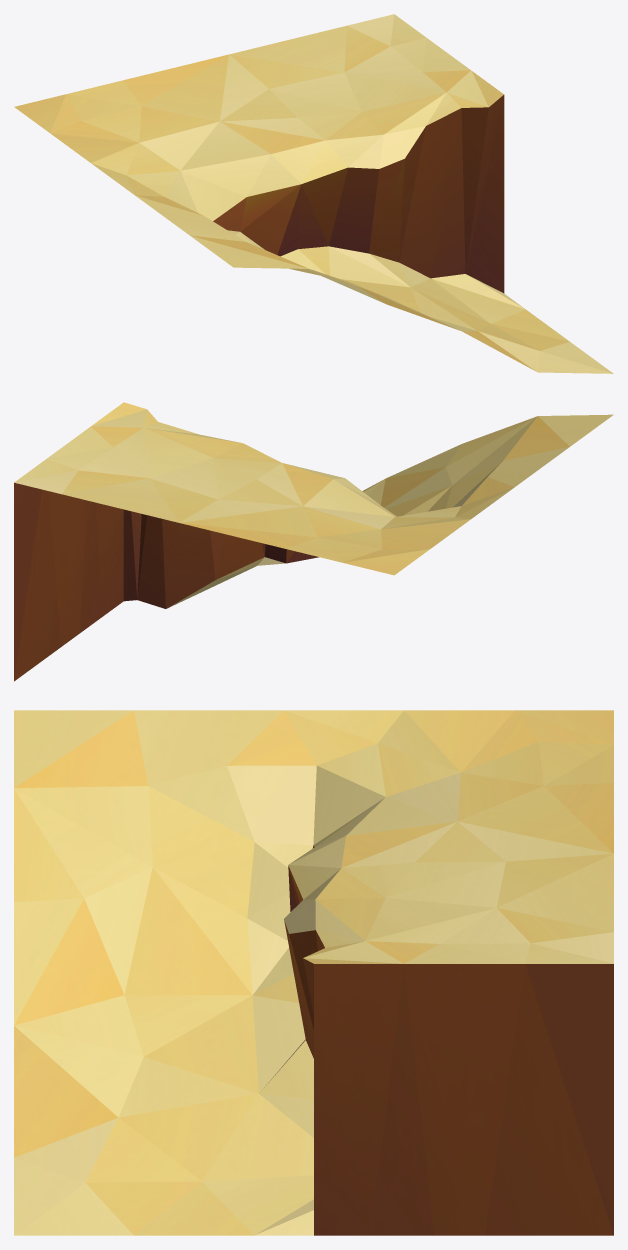
The model's file is GL-Terrain-part-17-LOD2.fbx.
3 views of the same model, one above another, from view 1: azimuth 30°, elevation 25°; view 2: azimuth 150°, elevation 25°; view 3: azimuth 270°, elevation 25° (orthographic). The views are drawn at different scales.
Visible parts, largest first — view 1: GL_Terrain_part_17; view 2: GL_Terrain_part_17; view 3: GL_Terrain_part_17.
Boxes of the visible parts, x1=… form: GL_Terrain_part_17: x1=14, y1=14, x2=613, y2=373; GL_Terrain_part_17: x1=14, y1=402, x2=613, y2=681; GL_Terrain_part_17: x1=14, y1=710, x2=613, y2=1235.
Bounding box in the file's own units: 6 × 3 × 6.
